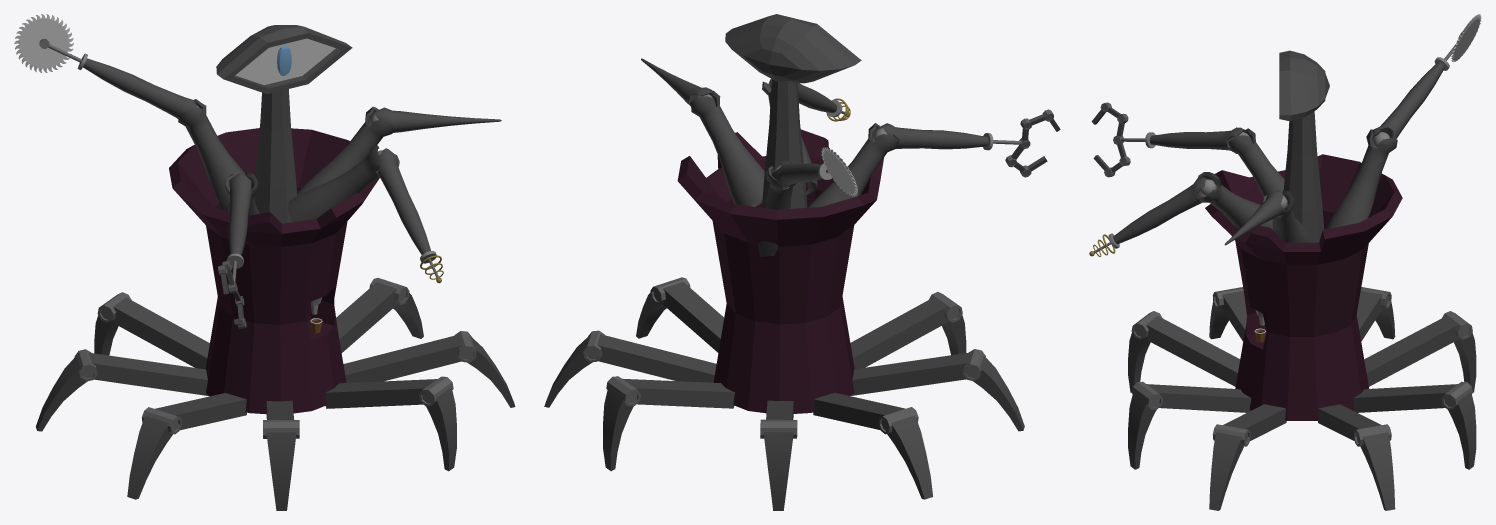
The model's file is TreeScience3.glb.
3 renders of one model, left to right at view 1: azimuth 30°, elevation 25°; view 2: azimuth 150°, elevation 25°; view 3: azimuth 270°, elevation 25°, orthographic. The views are drawn at different scales.
Parts seen in each view (by area): view 1: Trunk_Metal_Final_tree, Mecha leg Thigh.001, Mecha leg Thigh, Eye_Ball, Mecha leg.001, Eye_pole, Mecha leg, Eye_Ball.001, Laser_Arm, Pincer_Arm.002, Saw, Joint_Base.004 (+6 smaller); view 2: Trunk_Metal_Final_tree, Mecha leg Thigh.001, Eye_Ball, Mecha leg Thigh, Mecha leg.001, Mecha leg, Arm_Base, Eye_pole, Pincer_Arm.001, Mecha leg Joint.001, Joint_Base.003, Mecha leg Joint (+5 smaller); view 3: Trunk_Metal_Final_tree, Mecha leg Thigh, Mecha leg.001, Mecha leg, Mecha leg Thigh.001, Eye_pole, Eye_Ball, Pincer_Arm.002, Mecha leg Joint, Joint_Base.002, Pincer_Arm.001, Joint_Base.004 (+6 smaller).
Part boxes in pixels (x1,y1,x2,y2): Trunk_Metal_Final_tree: [169, 128, 379, 414]; Mecha leg Thigh.001: [88, 282, 462, 430]; Mecha leg Thigh: [112, 297, 437, 419]; Eye_Ball: [216, 25, 352, 93]; Mecha leg.001: [36, 293, 515, 499]; Eye_pole: [253, 89, 297, 223]; Mecha leg: [94, 315, 456, 510]; Eye_Ball.001: [234, 39, 339, 87]; Laser_Arm: [287, 145, 399, 222]; Pincer_Arm.002: [178, 99, 245, 210]; Saw: [14, 14, 73, 72]; Joint_Base.004: [83, 58, 197, 119]; Trunk_Metal_Final_tree: [677, 129, 883, 413]; Mecha leg Thigh.001: [597, 282, 971, 429]; Eye_Ball: [725, 14, 861, 83]; Mecha leg Thigh: [622, 297, 947, 419]; Mecha leg.001: [544, 292, 1024, 499]; Mecha leg: [603, 315, 966, 510]; Arm_Base: [690, 90, 764, 206]; Eye_pole: [762, 79, 807, 208]; Pincer_Arm.001: [807, 123, 899, 207]; Mecha leg Joint.001: [583, 277, 985, 434]; Joint_Base.003: [881, 123, 988, 149]; Mecha leg Joint: [606, 292, 962, 438]; Trunk_Metal_Final_tree: [1205, 154, 1402, 420]; Mecha leg Thigh: [1145, 316, 1458, 412]; Mecha leg.001: [1209, 301, 1395, 510]; Mecha leg: [1128, 332, 1476, 469]; Mecha leg Thigh.001: [1221, 291, 1382, 440]; Eye_pole: [1283, 111, 1324, 242]; Eye_Ball: [1279, 50, 1329, 121]; Pincer_Arm.002: [1326, 129, 1397, 229]; Mecha leg Joint: [1131, 311, 1472, 409]; Joint_Base.002: [1113, 177, 1205, 244]; Pincer_Arm.001: [1228, 128, 1284, 197]; Joint_Base.004: [1372, 62, 1444, 139].
Bounding box in the file's own units: 3.76 × 3.71 × 3.55.
